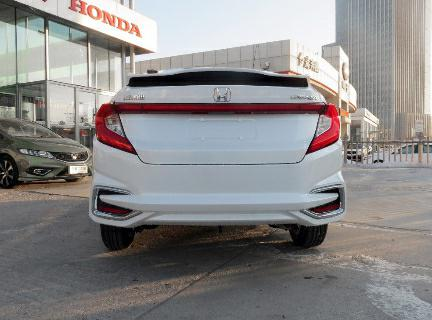本田-竞瑞: (88, 63, 349, 256)
